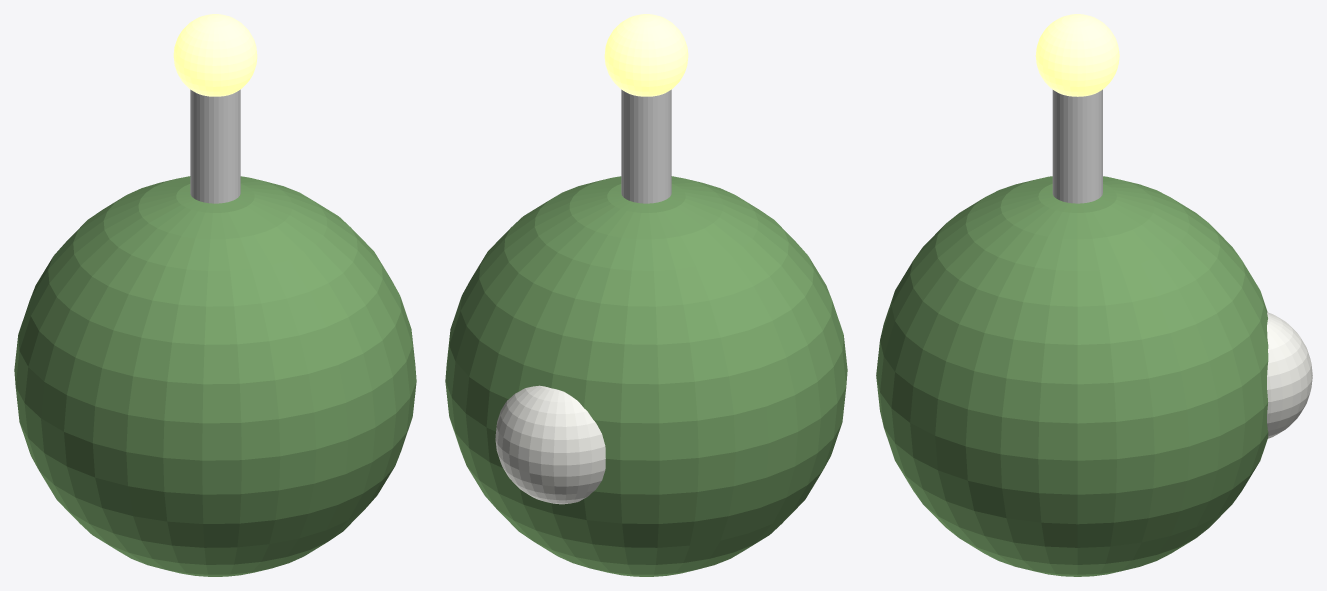
File: insecticide_bomb.glb
The picture shows the model from 3 angles, left to right: view 1: azimuth 30°, elevation 25°; view 2: azimuth 150°, elevation 25°; view 3: azimuth 270°, elevation 25°; orthographic projection.
Visible parts, largest first — view 1: Sphere, Sphere.001, Cylinder; view 2: Sphere, Sphere.002, Sphere.001, Cylinder; view 3: Sphere, Sphere.001, Cylinder, Sphere.002.
Part boxes in pixels (box(x1,y1,x2,y2)): Sphere: box(14, 176, 416, 576); Sphere.001: box(173, 14, 257, 96); Cylinder: box(190, 89, 240, 203); Sphere: box(445, 176, 847, 576); Sphere.002: box(495, 385, 605, 504); Sphere.001: box(604, 14, 688, 96); Cylinder: box(621, 89, 671, 203); Sphere: box(876, 176, 1268, 576); Sphere.001: box(1035, 14, 1119, 96); Cylinder: box(1052, 89, 1102, 203); Sphere.002: box(1267, 312, 1312, 438).
Size of the model in its own units: 0.24 by 0.355 by 0.26.
